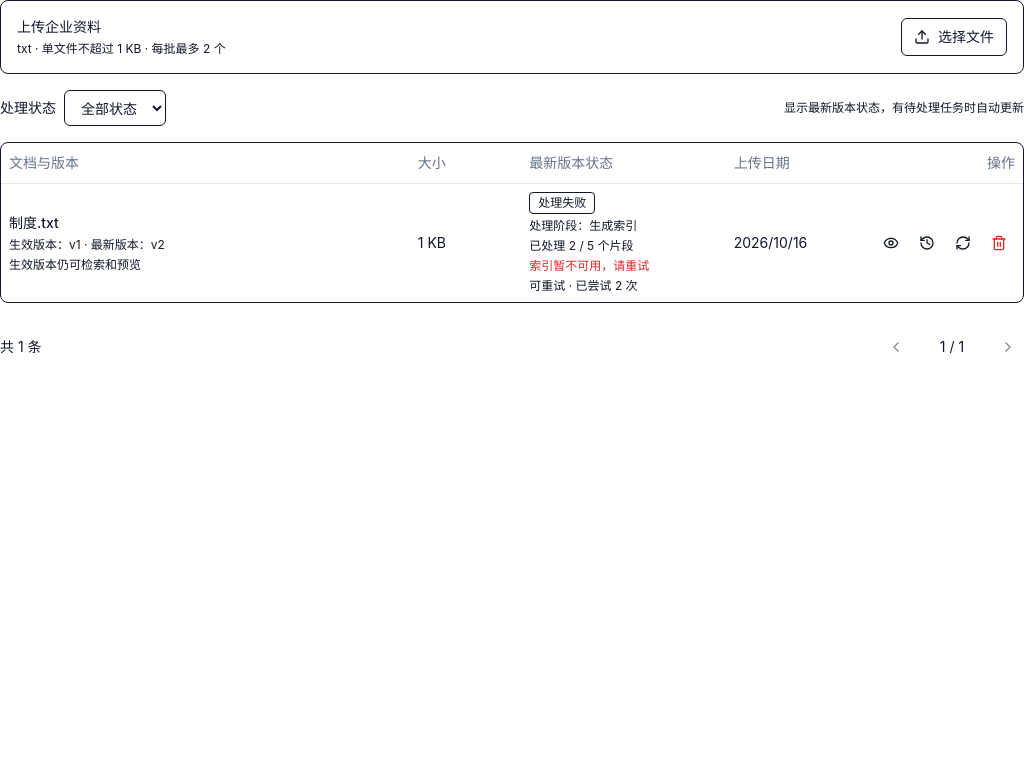
Scenario: document versions › removes replacement controls when version access returns 403
Click the button named "上传新版或查看版本 制度.txt".
click(927, 242)  # box [911,226,943,258]
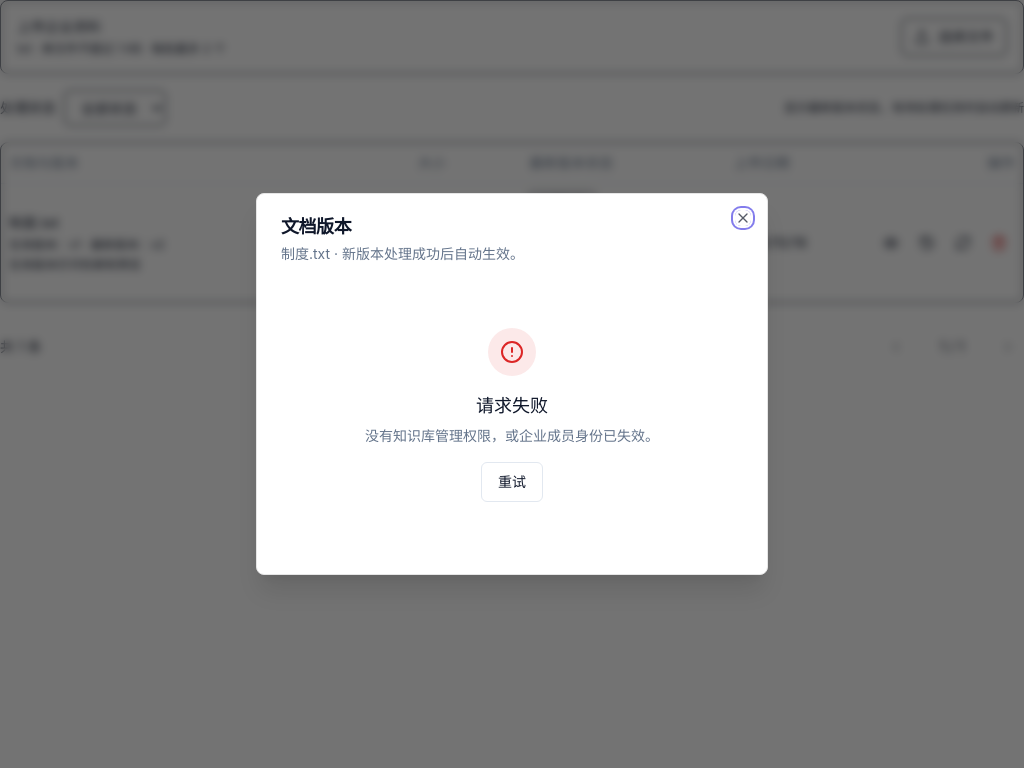
Expected: the text "没有知识库管理权限，或企业成员身份已失效。" is shown, [365,426,659,446]
